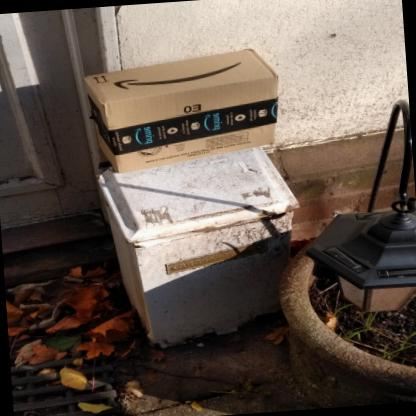box: (84, 45, 281, 173)
